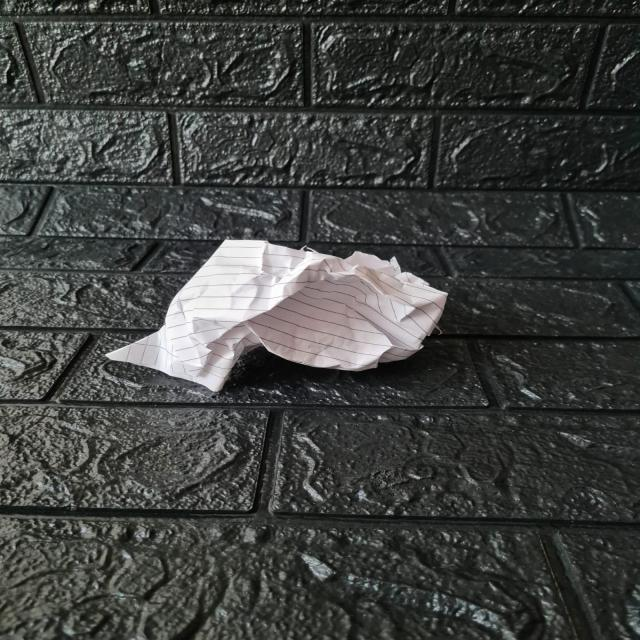trash: (132, 243, 450, 391)
